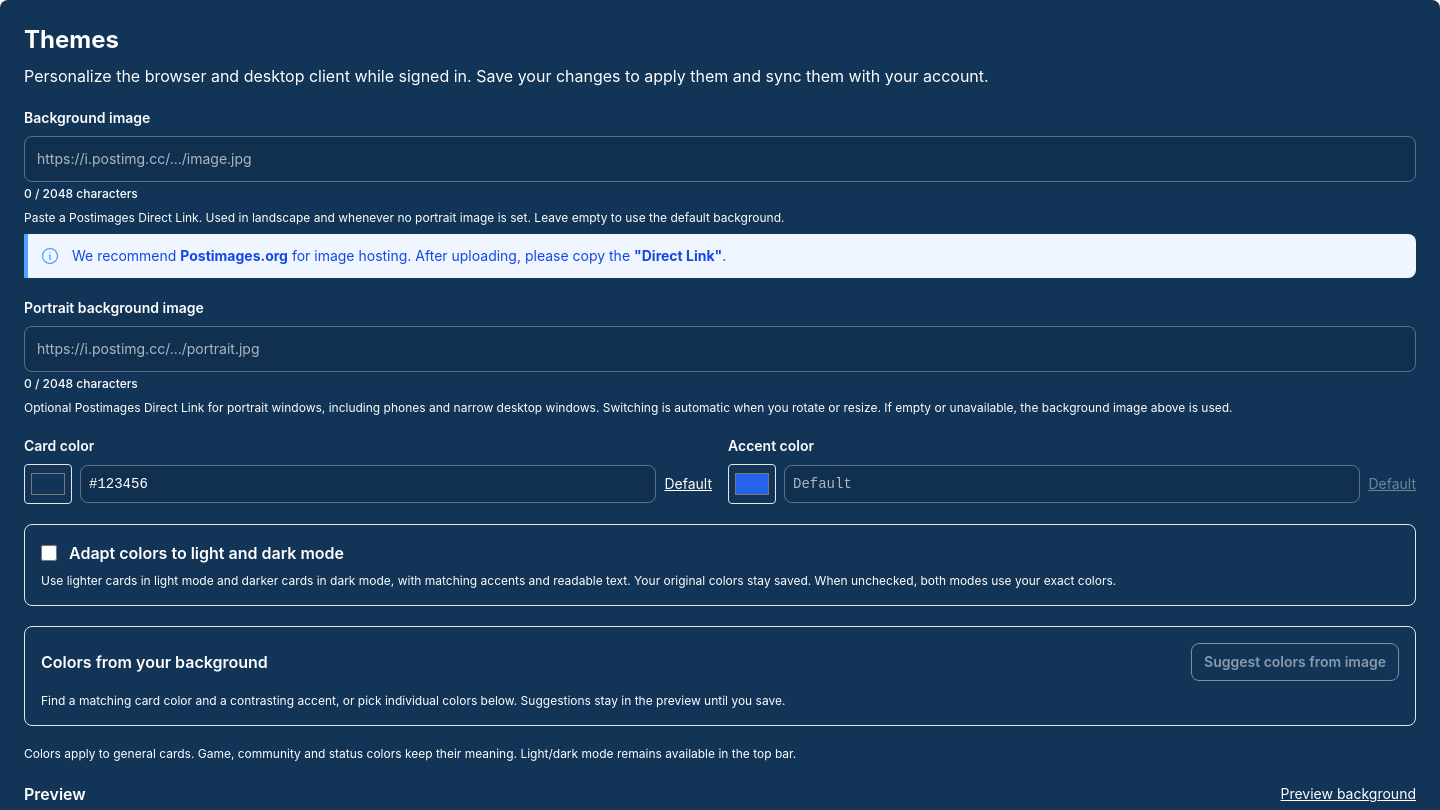
it: blocks invalid URLs and keeps reset as an unsaved draft
The width and height of the screenshot is (1440, 810).
Type "https://postimg.cc/abc" into the field labelled "Background image" at (720, 159), box [24, 136, 1416, 182]
(page scrolled)
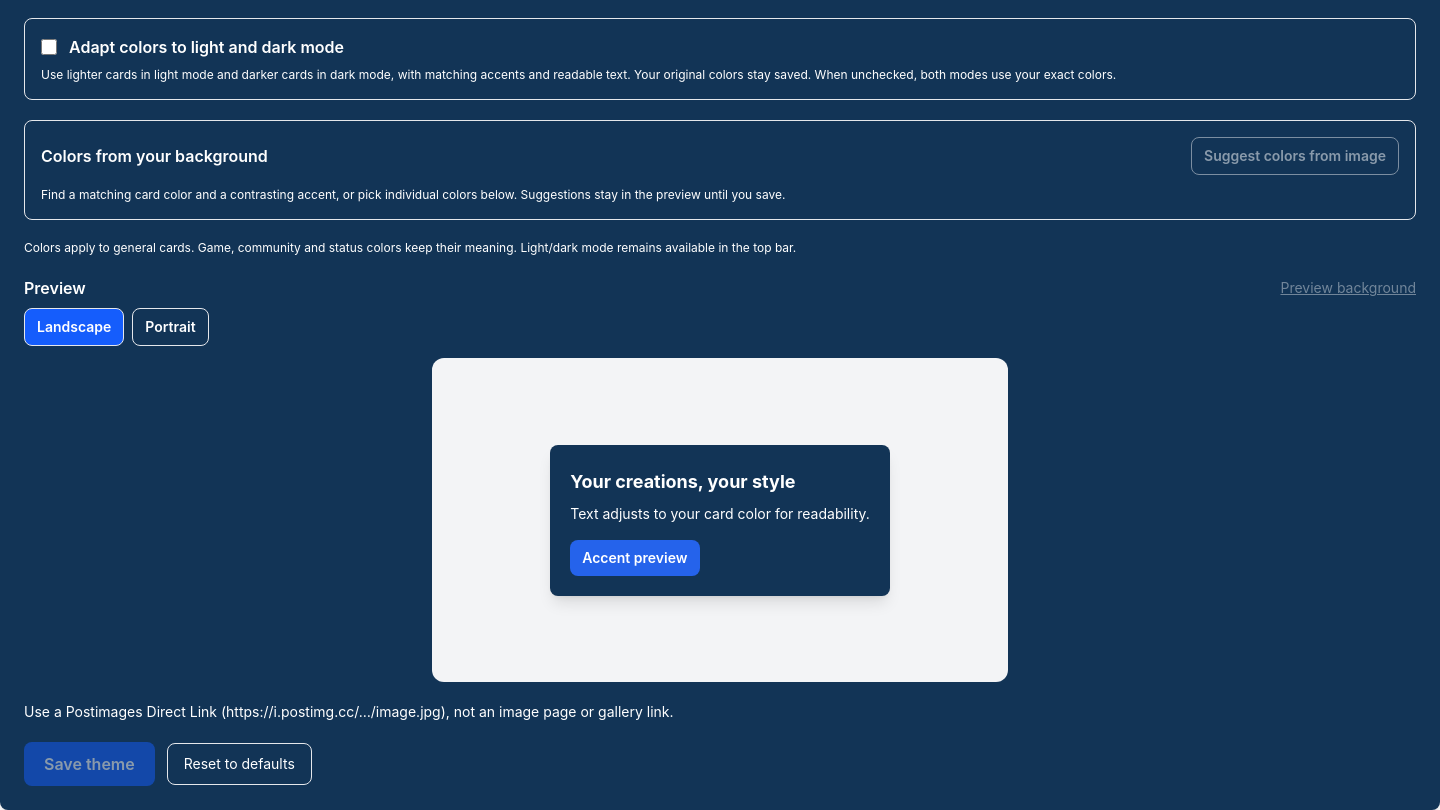
Expected: the button "Save theme" is disabled, [24, 742, 155, 786]
Now the message shows "Direct Link", box [24, 703, 674, 720]
Click the button "Reset to defaults" at (239, 764), box [167, 743, 312, 785]
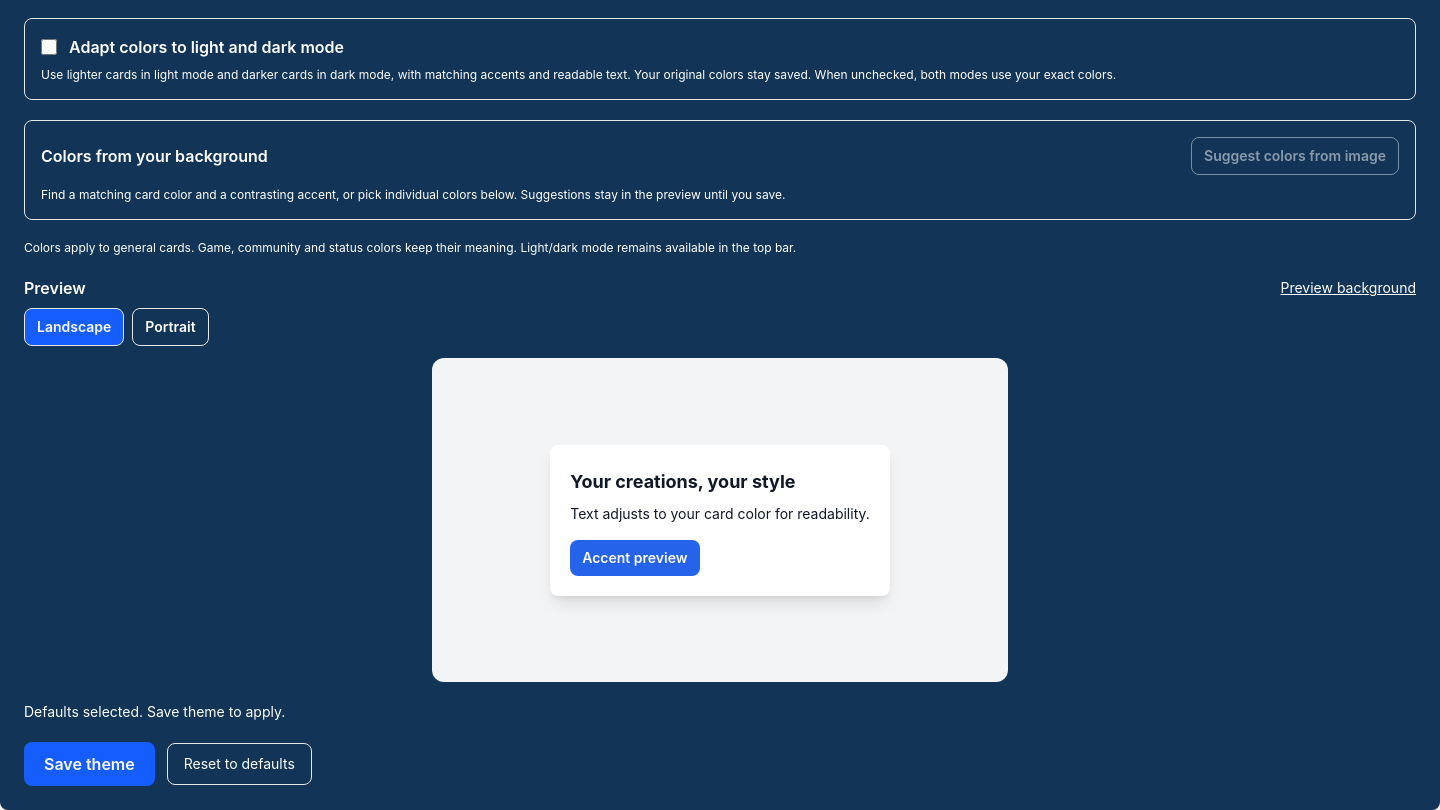
Click the button "Save theme" at (89, 764), box [24, 742, 155, 786]
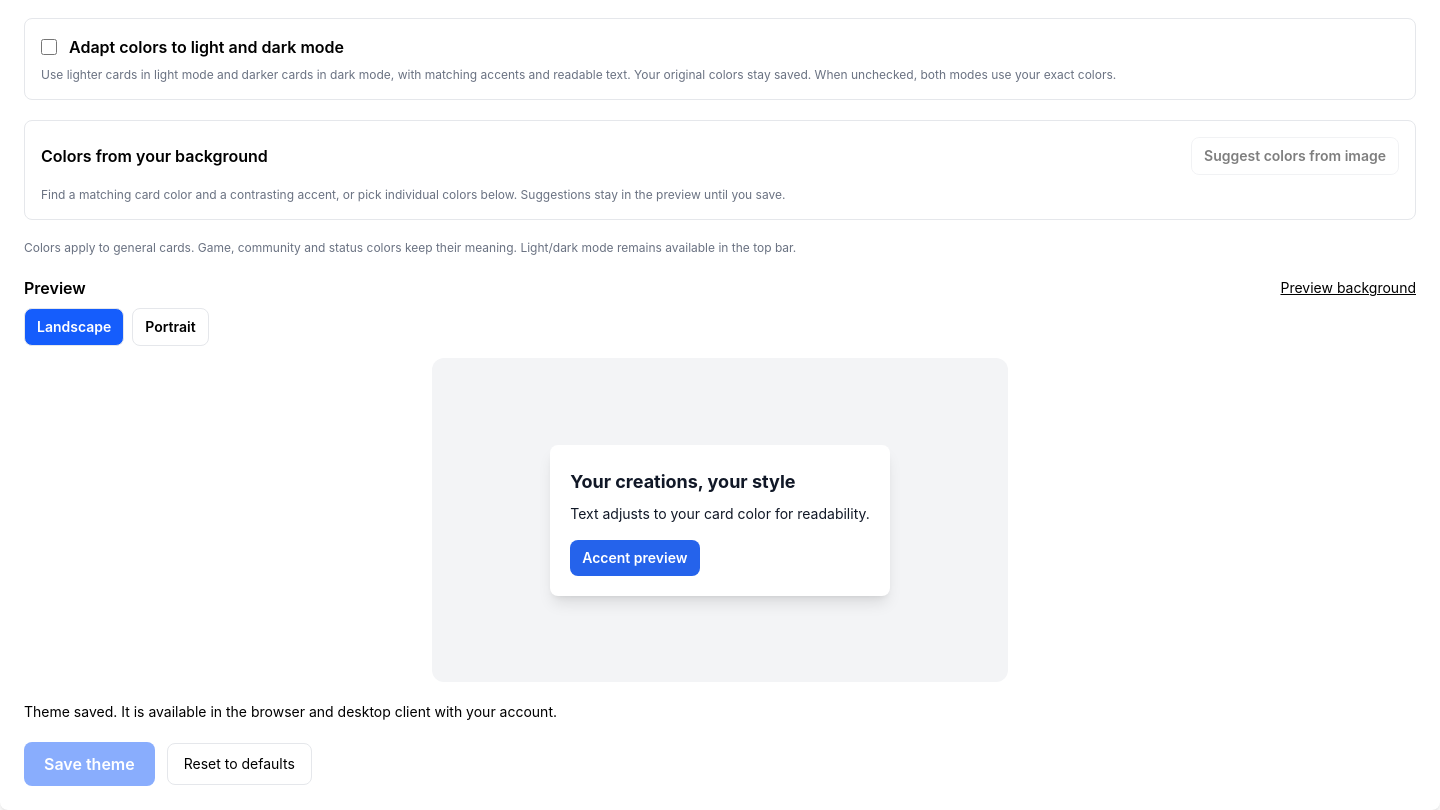
Now the text "Theme saved" is shown, box [24, 703, 557, 720]
